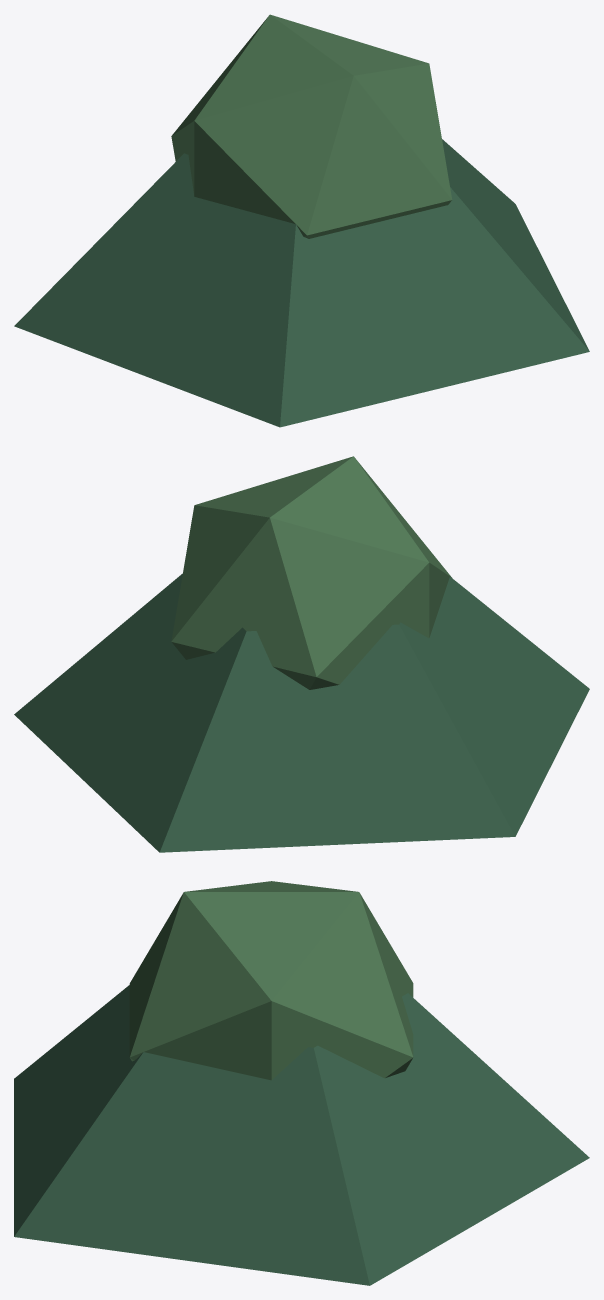
File: cabbage.glb
3 renders of one model, top to bottom at view 1: azimuth 30°, elevation 25°; view 2: azimuth 150°, elevation 25°; view 3: azimuth 270°, elevation 25°, orthographic. The views are drawn at different scales.
Parts seen in each view (by area): view 1: Leaves, Head; view 2: Leaves, Head; view 3: Leaves, Head.
Part boxes in pixels (x1=…): Leaves: x1=14, y1=139, x2=589, y2=427; Head: x1=171, y1=14, x2=452, y2=238; Leaves: x1=14, y1=573, x2=589, y2=852; Head: x1=171, y1=456, x2=451, y2=689; Leaves: x1=14, y1=985, x2=589, y2=1285; Head: x1=129, y1=881, x2=413, y2=1080.
Size of the model in its own units: 0.7989 by 0.3871 by 0.7598.
